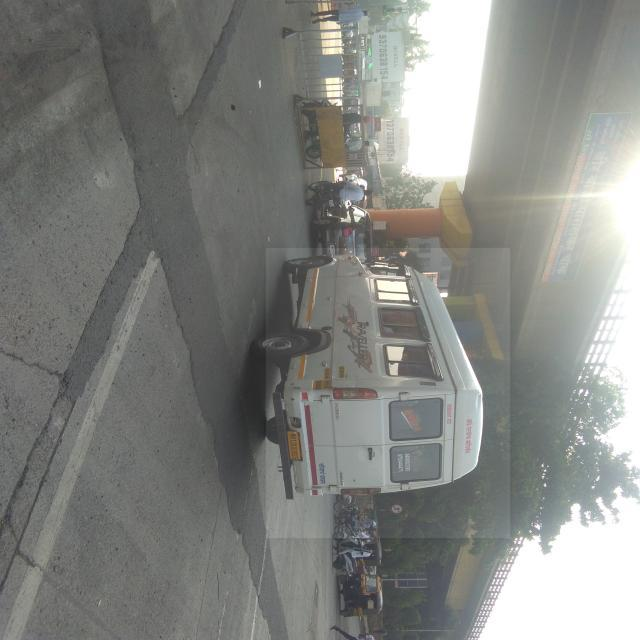Travller: (266, 248, 510, 538)
